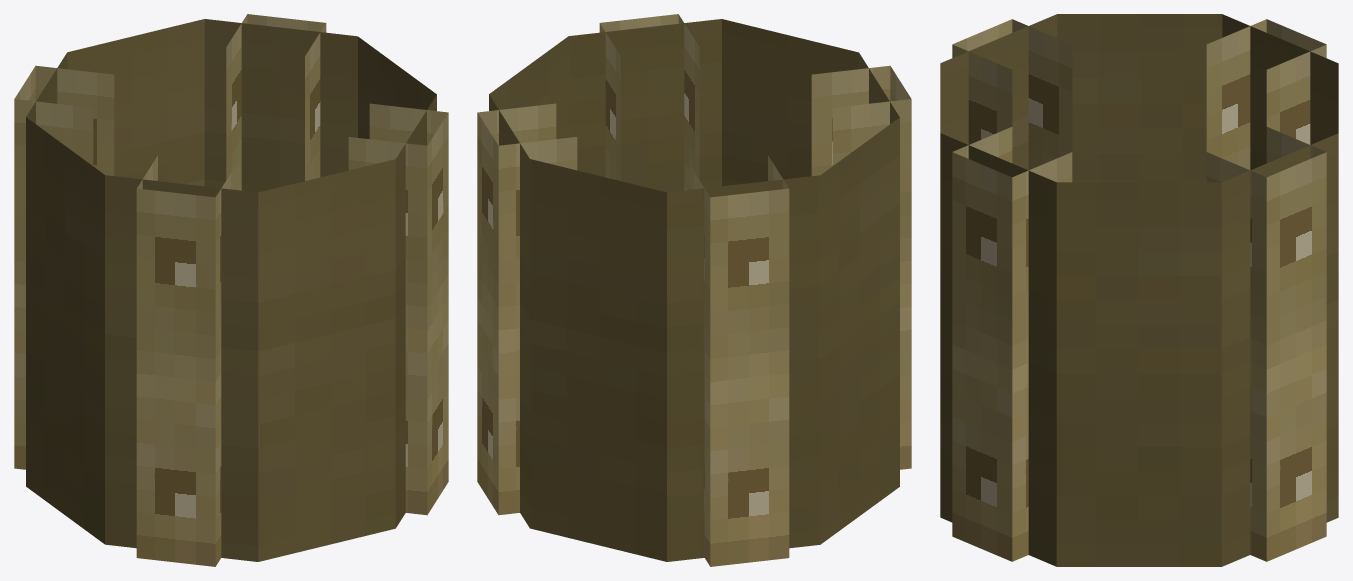
The model's file is advanced_tank_middle.obj.
The picture shows the model from 3 angles, left to right: view 1: azimuth 30°, elevation 25°; view 2: azimuth 150°, elevation 25°; view 3: azimuth 270°, elevation 25°; orthographic projection. The views are drawn at different scales.
Parts seen in each view (by area): view 1: Cube.000_Cube.001; view 2: Cube.000_Cube.001; view 3: Cube.000_Cube.001.
Boxes of the visible parts, x1,y1,x2,y2 form: Cube.000_Cube.001: [14, 14, 448, 566]; Cube.000_Cube.001: [477, 14, 911, 566]; Cube.000_Cube.001: [940, 14, 1338, 566].
Bounding box in the file's own units: 0.9396 × 1 × 0.9396.
